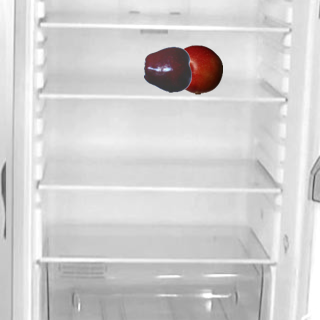Apple Braeburn: (172, 44, 222, 94)
Apple Red Delicious: (143, 44, 193, 94)
